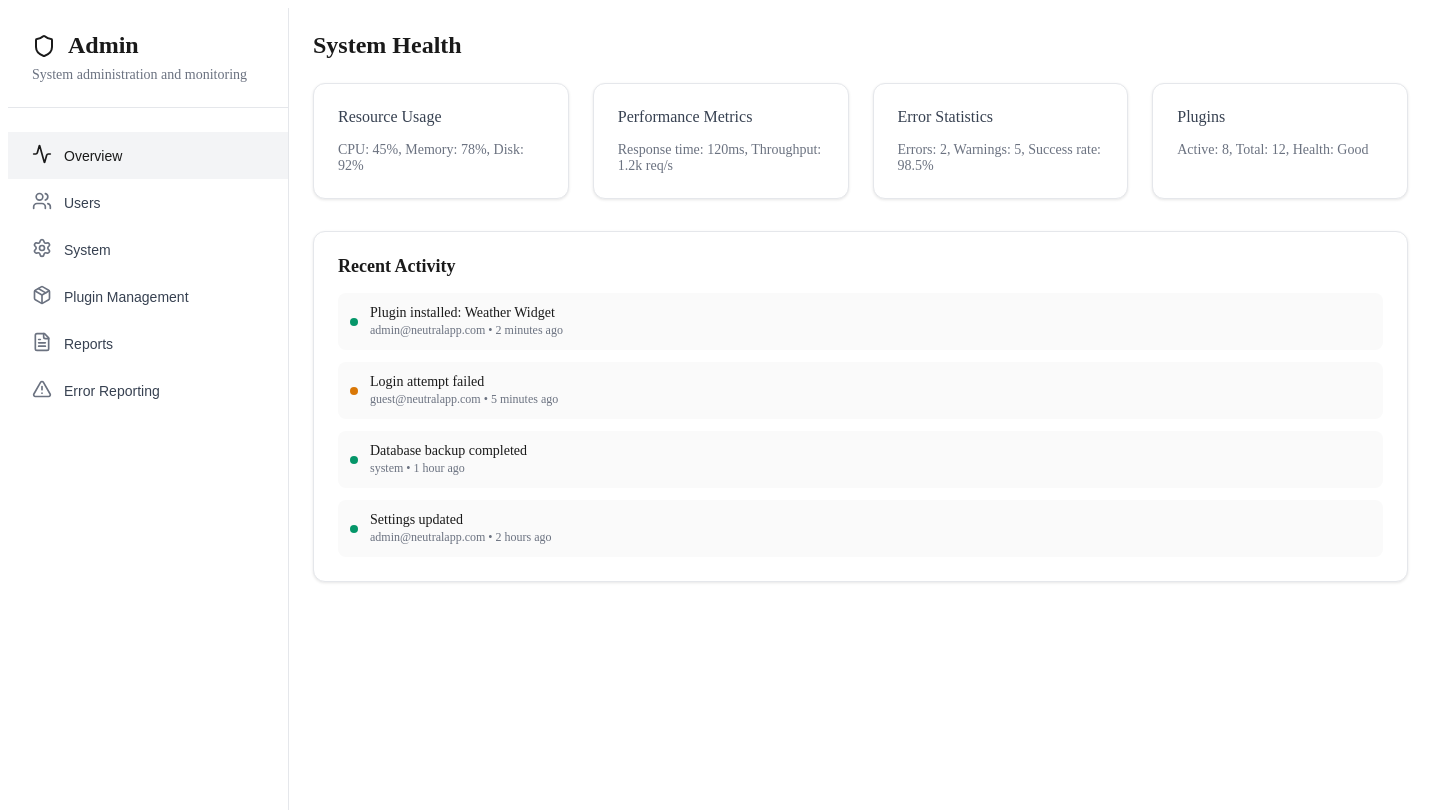
Scenario: AdminPage › Navigation and Tabs › should switch to reports tab when clicked
Click the tab "Reports". click: (89, 344)
box: [8, 320, 288, 367]
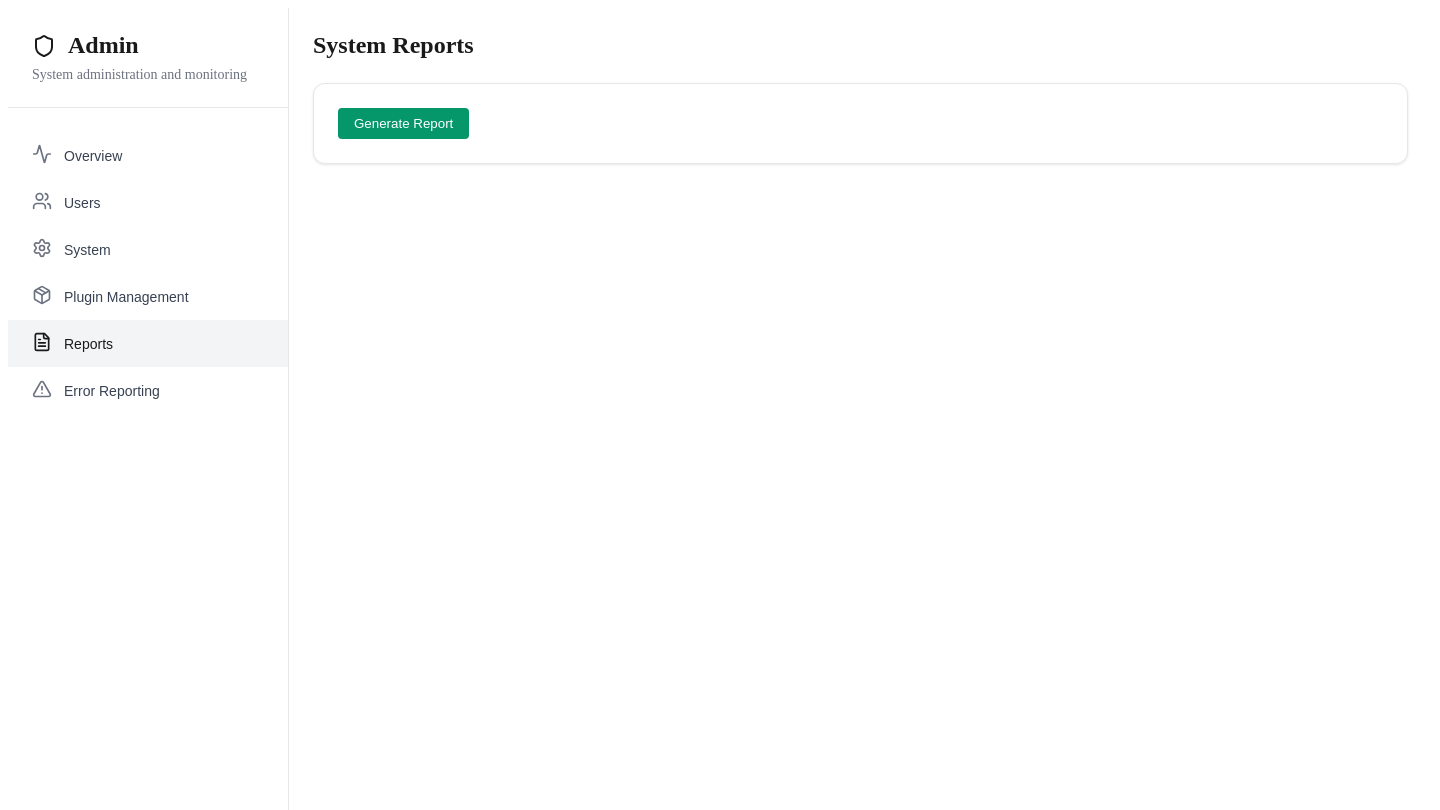
Expected: the heading "System Reports" is shown, [313, 32, 474, 58]
Expected: the button "Generate Report" is shown, [338, 108, 469, 139]
